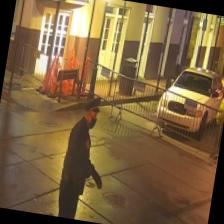person: (55, 92, 116, 222)
